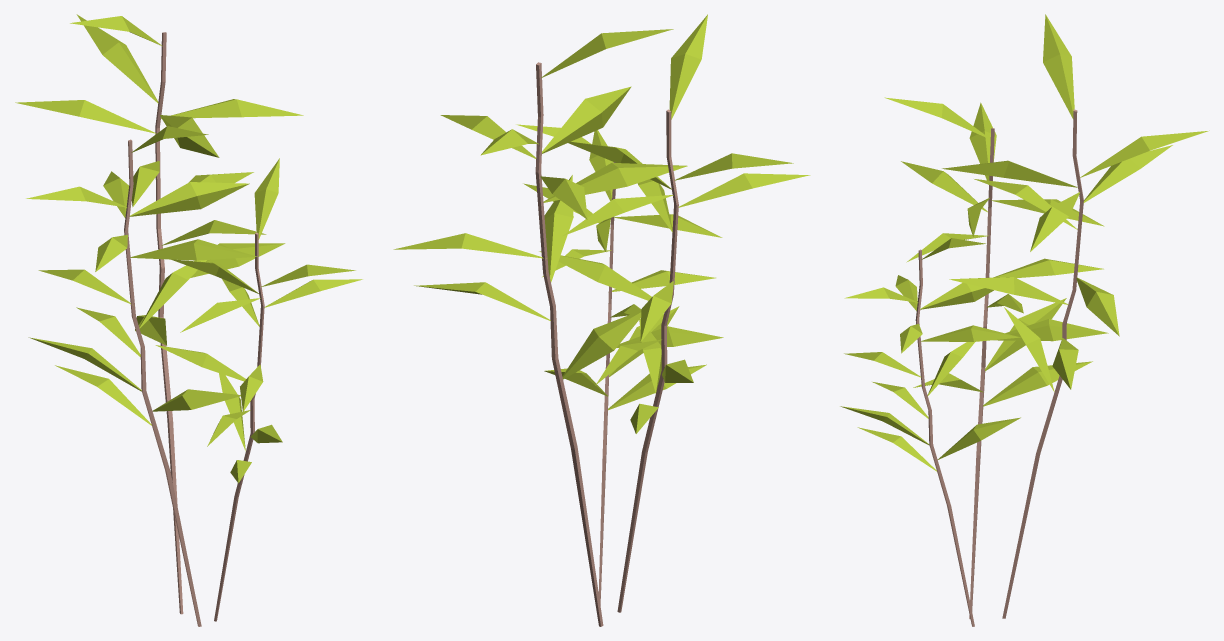
Rendered from CordylinePetiolaris.glb.
3 views of the same model, side by side, from view 1: azimuth 30°, elevation 25°; view 2: azimuth 150°, elevation 25°; view 3: azimuth 270°, elevation 25° (orthographic). The views are drawn at different scales.
Visible parts, largest first — view 1: Crown, Trunk; view 2: Crown, Trunk; view 3: Crown, Trunk.
Boxes of the visible parts, x1=… form: Crown: x1=15, y1=14, x2=362, y2=483; Trunk: x1=124, y1=32, x2=264, y2=626; Crown: x1=393, y1=14, x2=810, y2=433; Trunk: x1=535, y1=62, x2=678, y2=626; Crown: x1=840, y1=14, x2=1209, y2=471; Trunk: x1=915, y1=109, x2=1083, y2=626.
Bounding box in the file's own units: 2.05 × 3.78 × 2.26.
